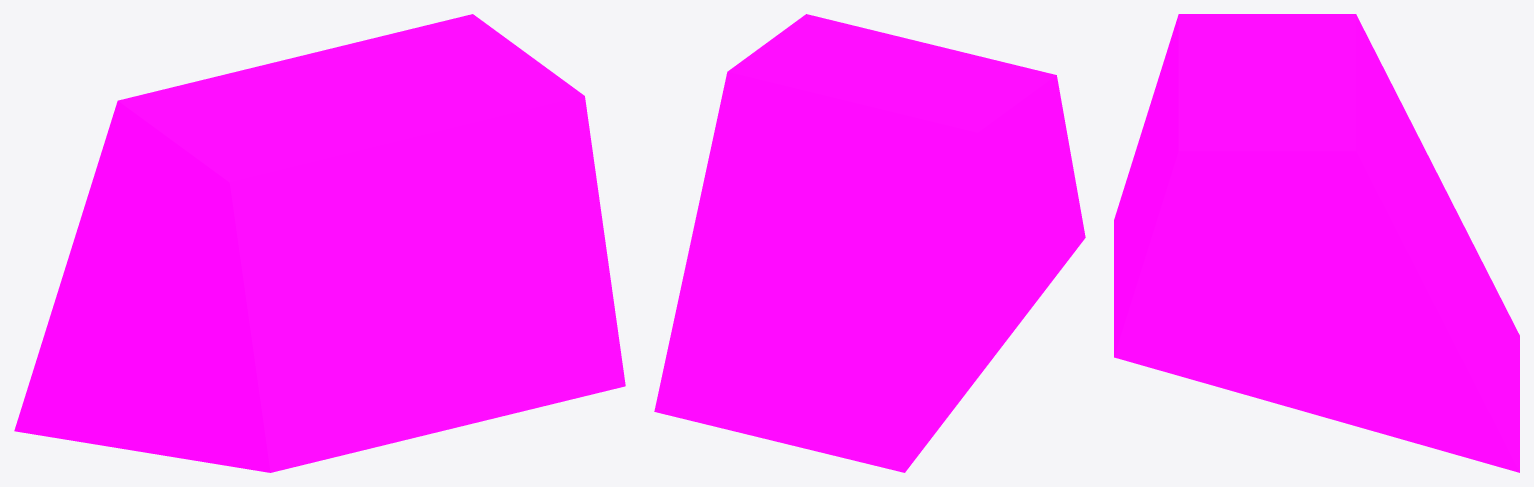
Rendered from button_holder_click.fbx.
The picture shows the model from 3 angles, left to right: view 1: azimuth 30°, elevation 25°; view 2: azimuth 150°, elevation 25°; view 3: azimuth 270°, elevation 25°; orthographic projection. The views are drawn at different scales.
Visible parts, largest first — view 1: button_click; view 2: button_click; view 3: button_click.
Part boxes in pixels (bbox=[...]): button_click: bbox=[14, 14, 625, 472]; button_click: bbox=[654, 14, 1085, 472]; button_click: bbox=[1114, 14, 1519, 472].
Bounding box in the file's own units: 10.25 × 11.2 × 12.81.
